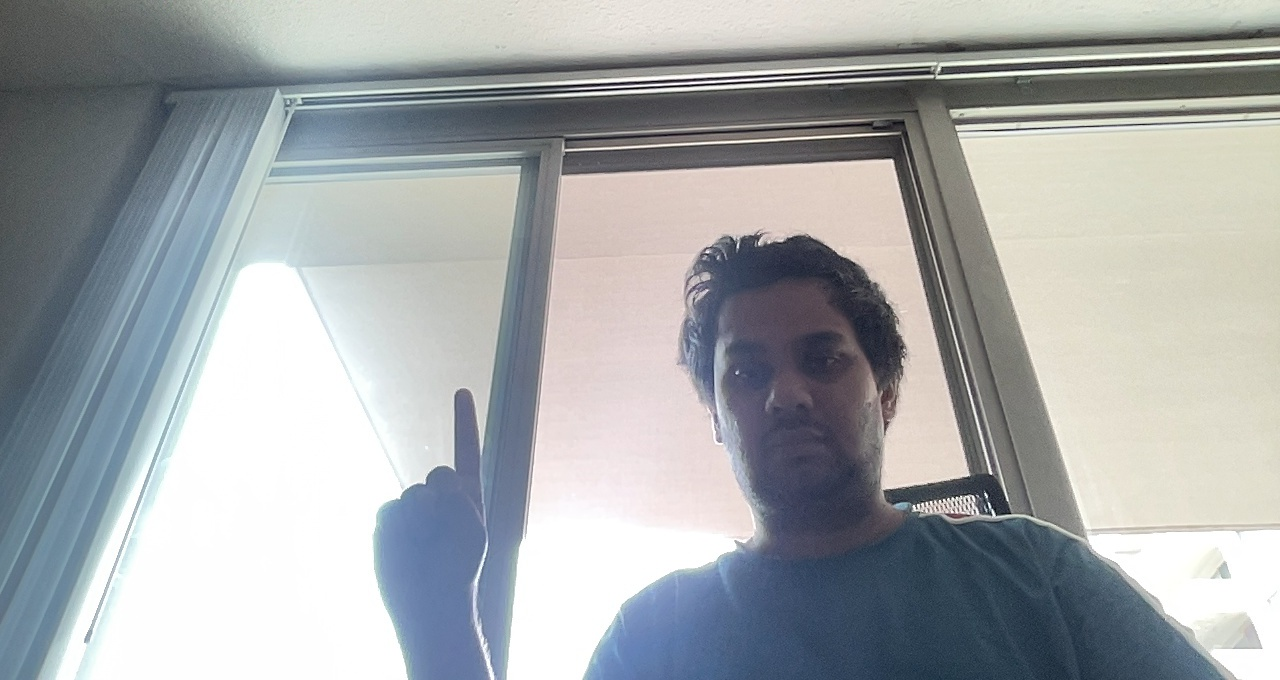fingerup: (359, 385, 505, 588)
